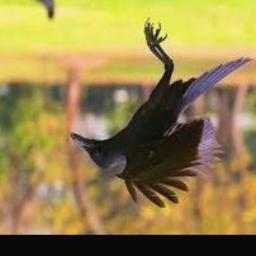Crow: (71, 17, 255, 208)
